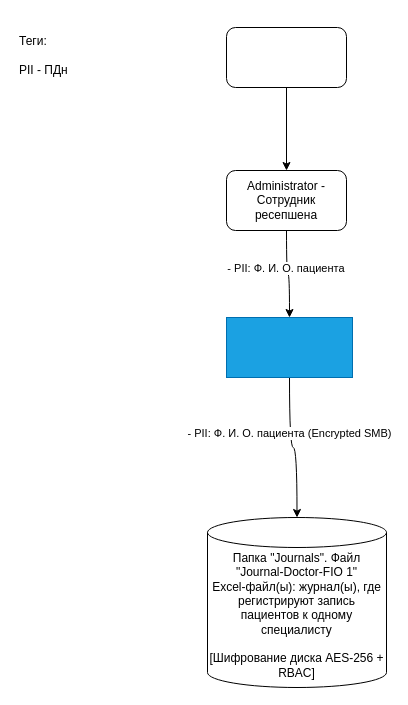
This 408x705 diagram has some shape labels left out. The shapes that lost their labels are listed below. From the top down, each one's box as (x1, y1, x2, y2) in pixels, then its label:
(226, 26, 346, 88): Patient - Пациент
(226, 316, 352, 378): 2.0 Запись пациента к специалисту
